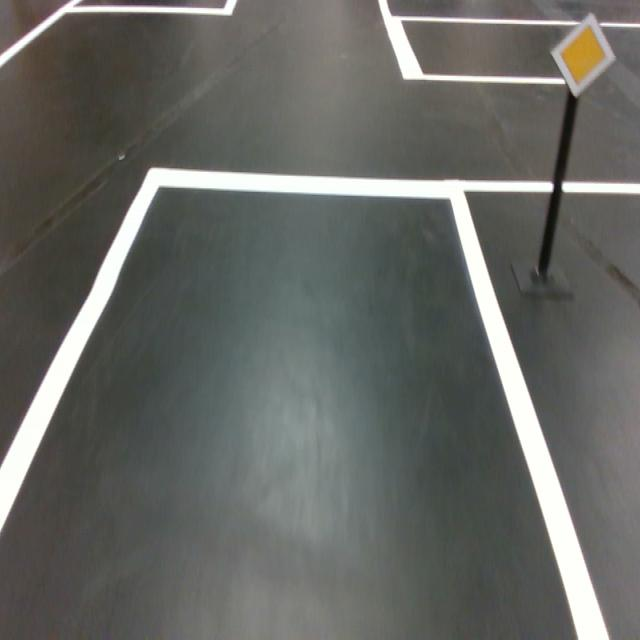priority-sign: (550, 12, 618, 99)
